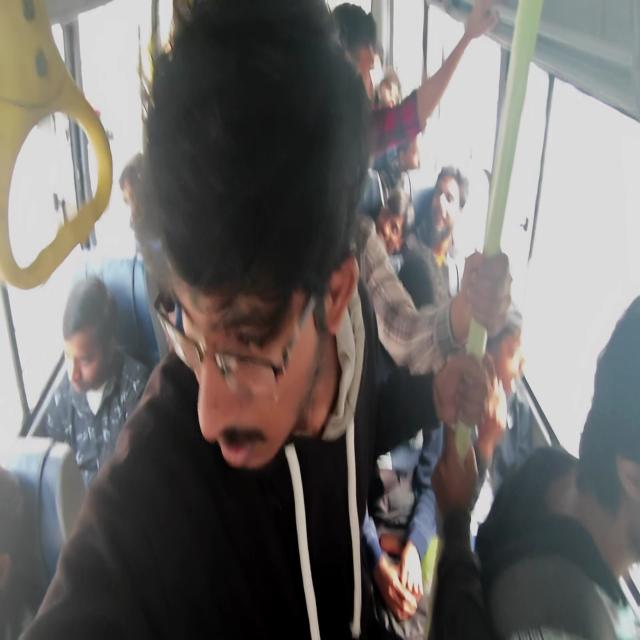person: (211, 106, 354, 484), (557, 331, 640, 640), (389, 243, 452, 464), (61, 287, 128, 405), (328, 22, 383, 135), (107, 156, 159, 259), (440, 180, 495, 266), (483, 298, 522, 398), (384, 197, 427, 264), (396, 102, 432, 179), (378, 82, 411, 130)
